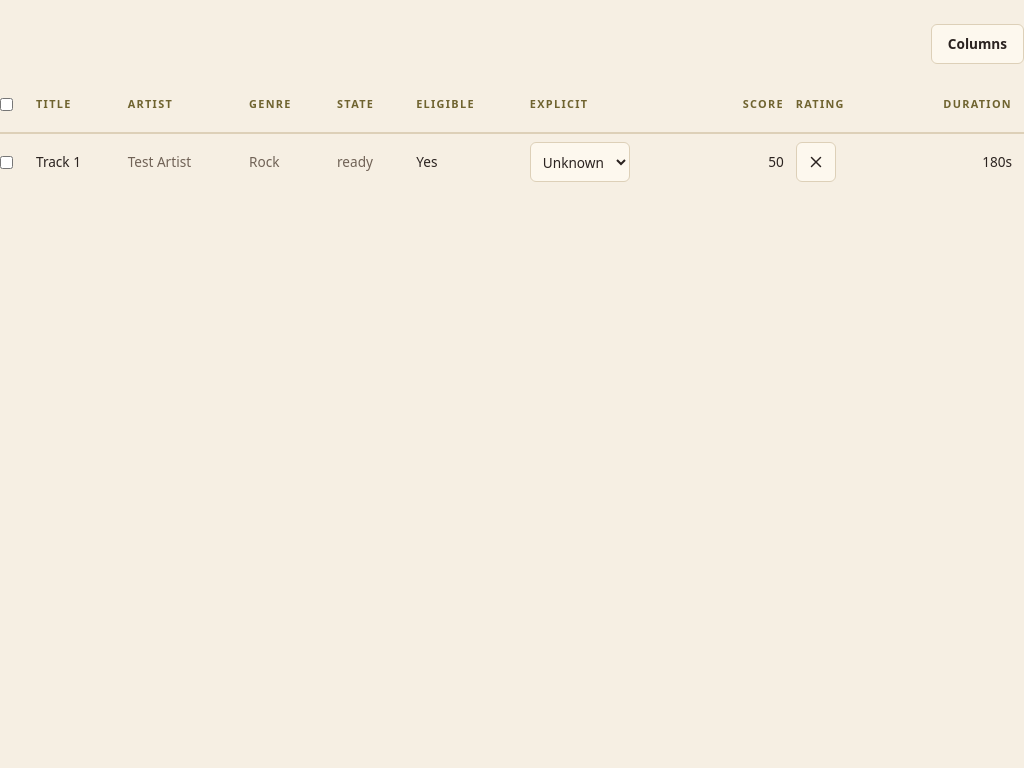
Test: Feature: Conflict retries succeed in place › Scenario: an all-conflict batch refreshes versions › keeps the failed rows selected after the conflict refresh (F45.1)
Step 1. Click the checkbox named "Select Track 1" → (6, 162), box x1=0 y1=156 x2=13 y2=168
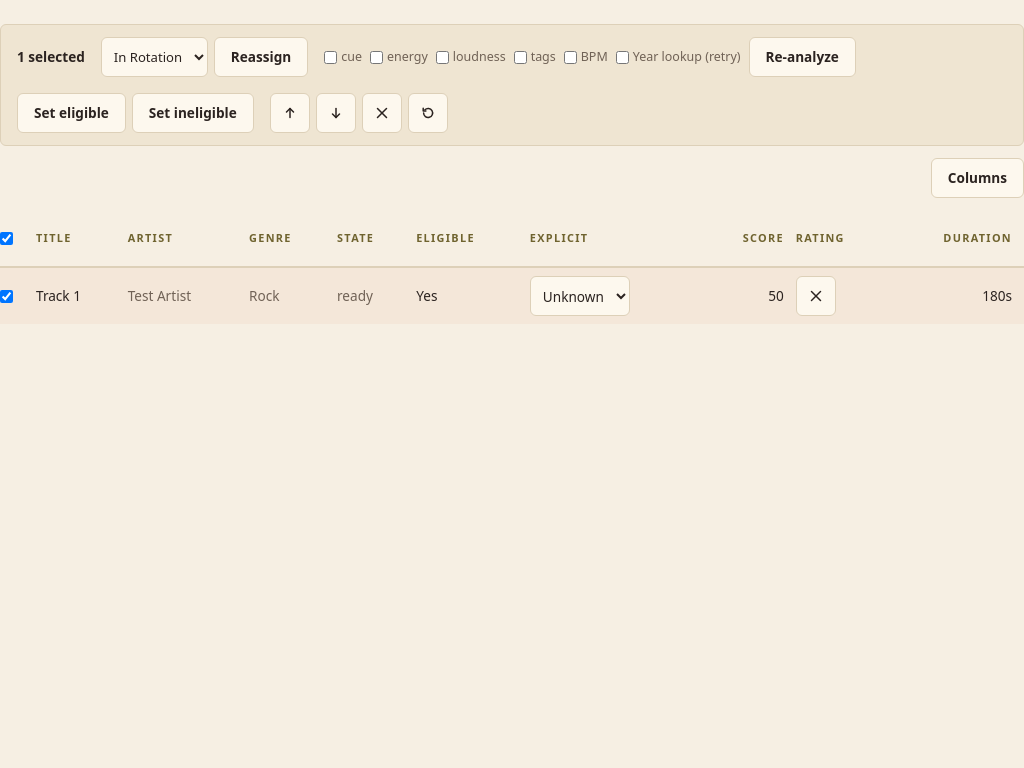
Step 2. Click the button "Set eligible" → (71, 113), box x1=17 y1=93 x2=126 y2=133
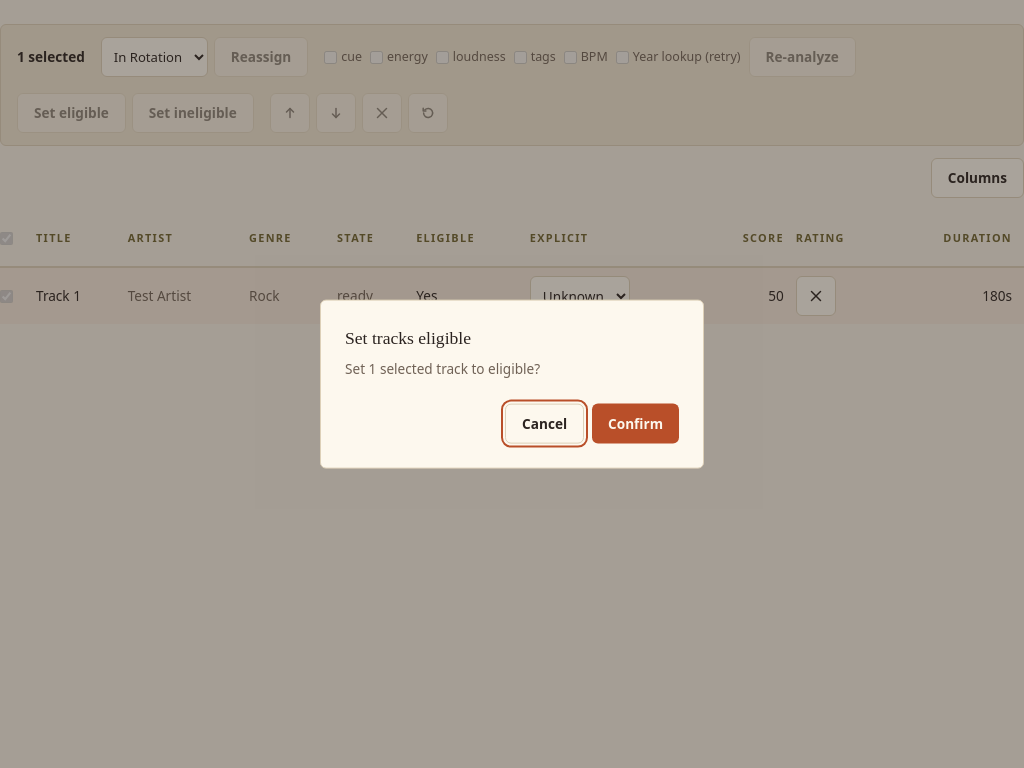
Step 3. Click the button "Confirm" → (636, 423), box x1=592 y1=403 x2=679 y2=443
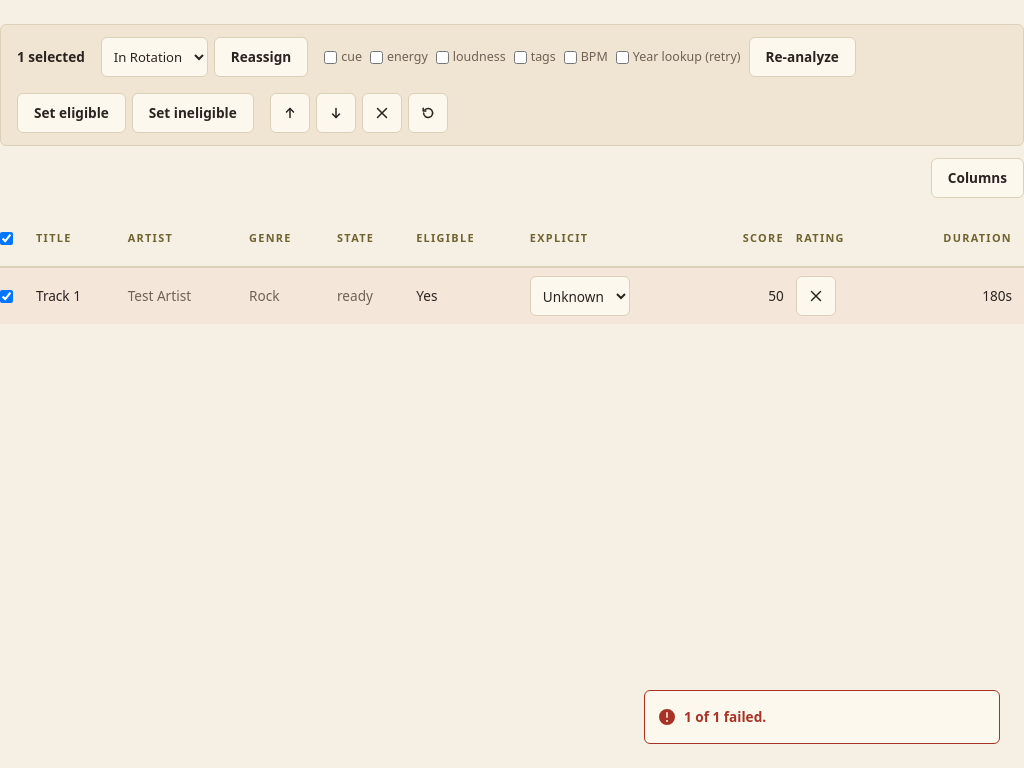
expect the checkbox named "Select Track 1" is checked: met, box x1=0 y1=290 x2=13 y2=302
expect the text "1 of 1 failed." is shown: met, box x1=684 y1=707 x2=766 y2=727
